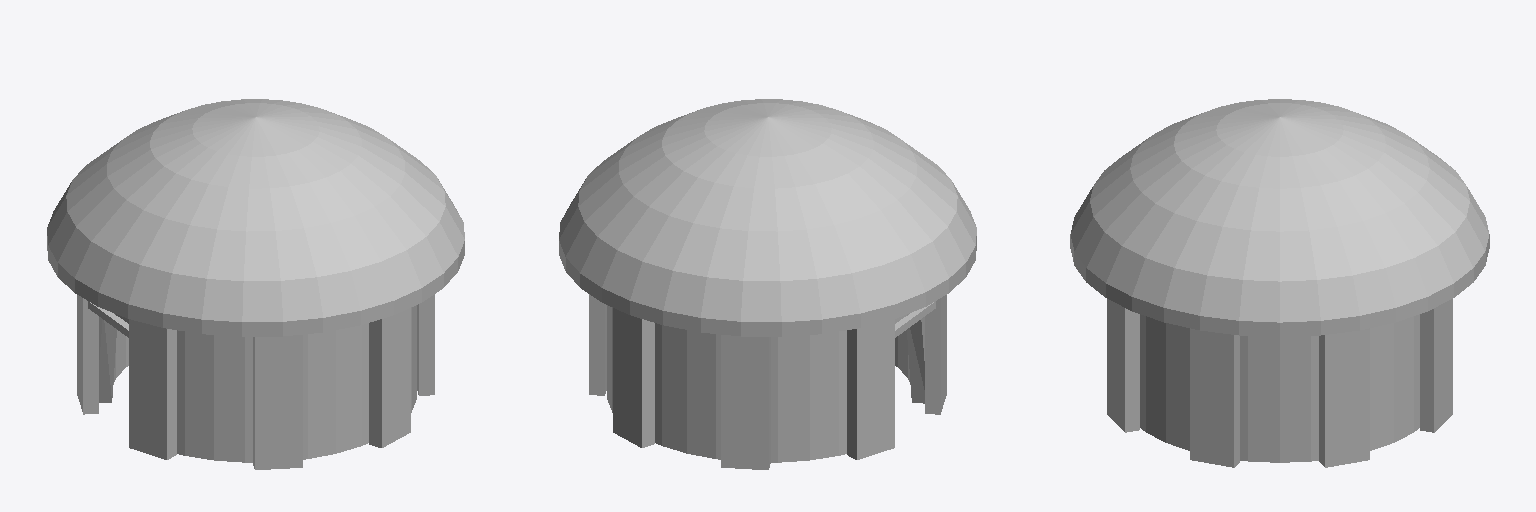
Rendered from hut.obj.
3 views of the same model, side by side, from view 1: azimuth 30°, elevation 25°; view 2: azimuth 150°, elevation 25°; view 3: azimuth 270°, elevation 25° (orthographic).
Visible parts, largest first — view 1: Roof_Circle.001, House_Circle; view 2: Roof_Circle.001, House_Circle; view 3: Roof_Circle.001, House_Circle.
Part boxes in pixels (bbox=[...]): Roof_Circle.001: bbox=[47, 99, 464, 336]; House_Circle: bbox=[77, 294, 434, 469]; Roof_Circle.001: bbox=[559, 99, 976, 336]; House_Circle: bbox=[589, 294, 946, 469]; Roof_Circle.001: bbox=[1070, 99, 1489, 336]; House_Circle: bbox=[1107, 299, 1452, 467].
Size of the model in its own units: 2.6 by 1.9 by 2.6.